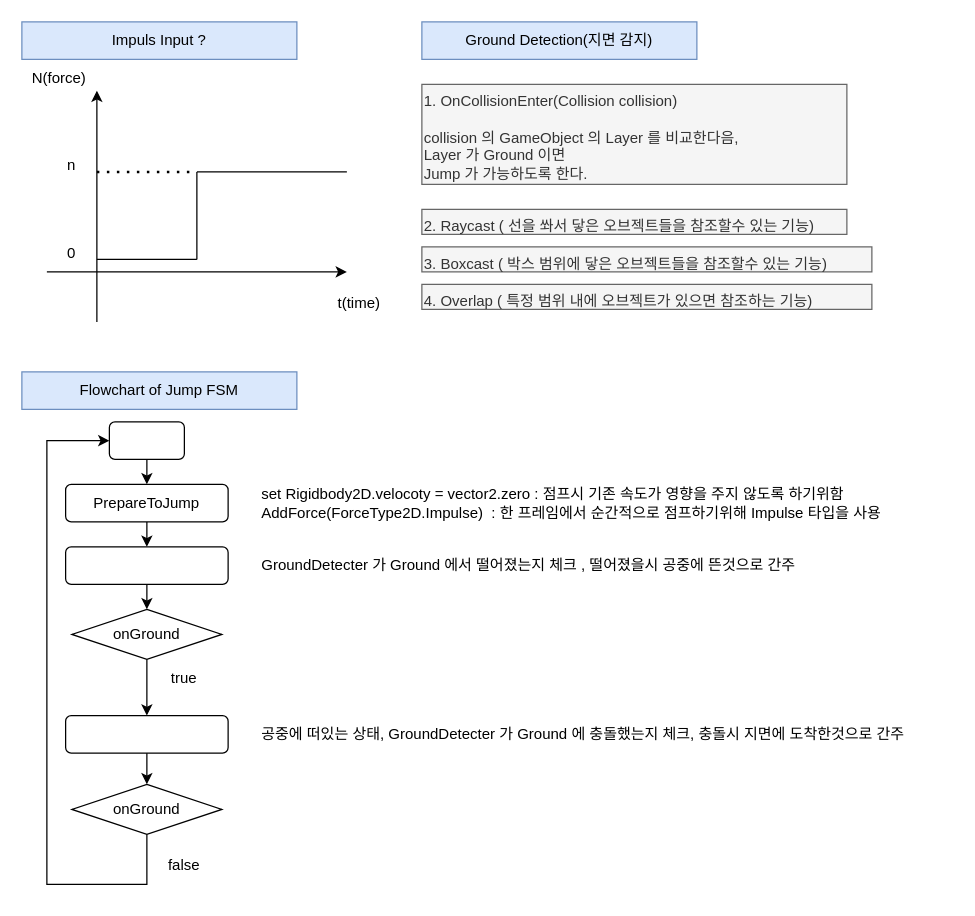
This 975x916 diagram has some shape labels left out. Each missing label, with the centre of its shape:
"Idle" belongs at pixel 146 440.
"InFlight" belongs at pixel 146 733.
"Jumping" belongs at pixel 146 565.
